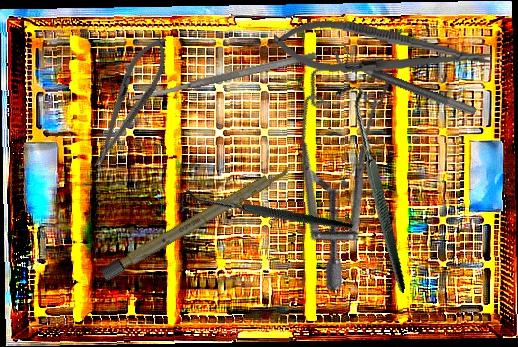Fixation Ring: (329, 40, 483, 117)
Hook Surgical: (292, 83, 450, 293), (173, 130, 354, 302)
Needle Holder: (271, 13, 493, 88), (80, 29, 178, 176)
Scalpel Handle: (100, 160, 295, 282)
Spatula Surgical: (130, 50, 318, 104)
Speculum: (239, 29, 467, 293)
